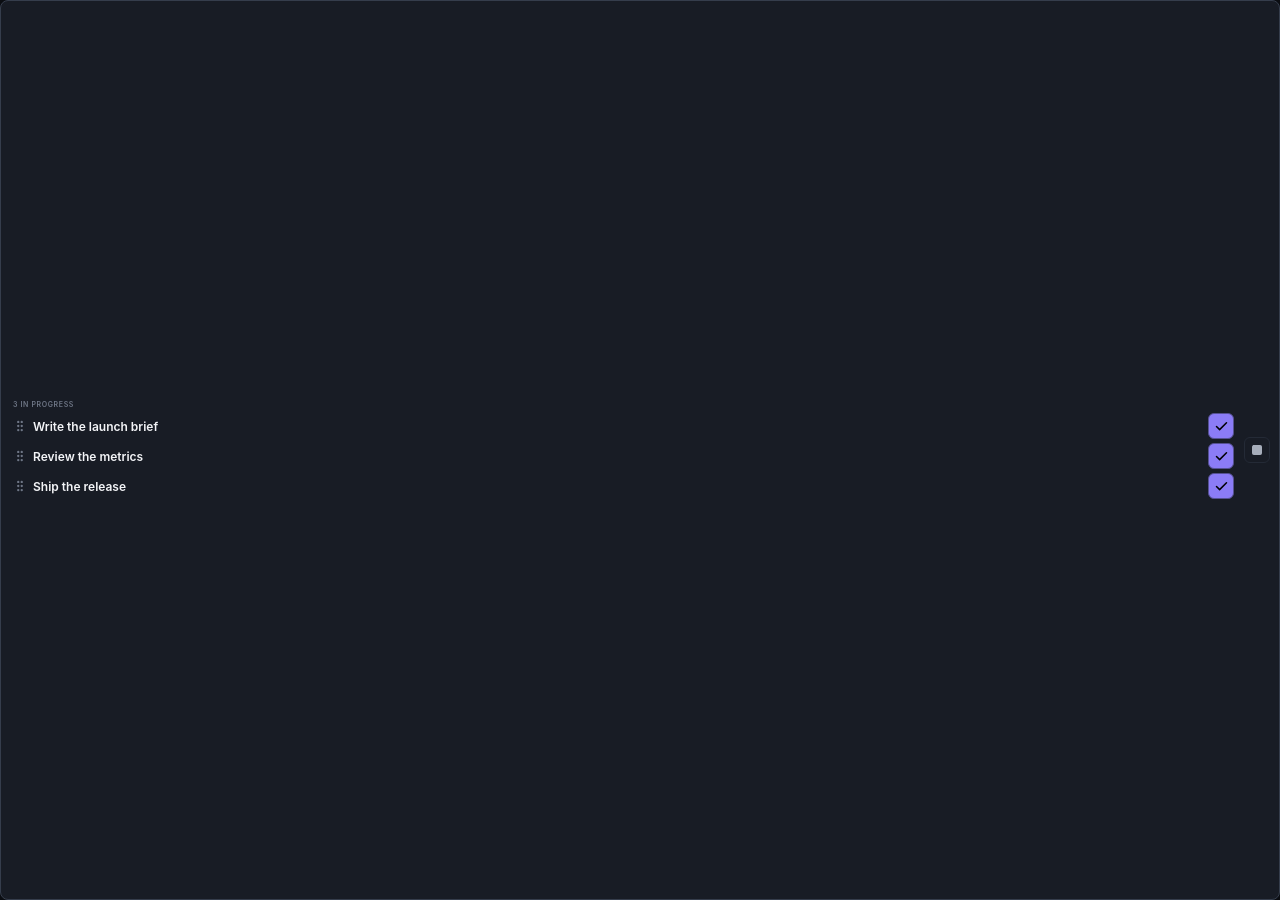
work mode › removes whichever task is marked Done
Check: the text "Write the launch brief" is shown, box [33,418,158,434]
What coordinates should you click on to do the following:
click the button named "Mark Review the metrics done"
I would click on:
 (1221, 456)
Its box is [1208,443,1234,469].
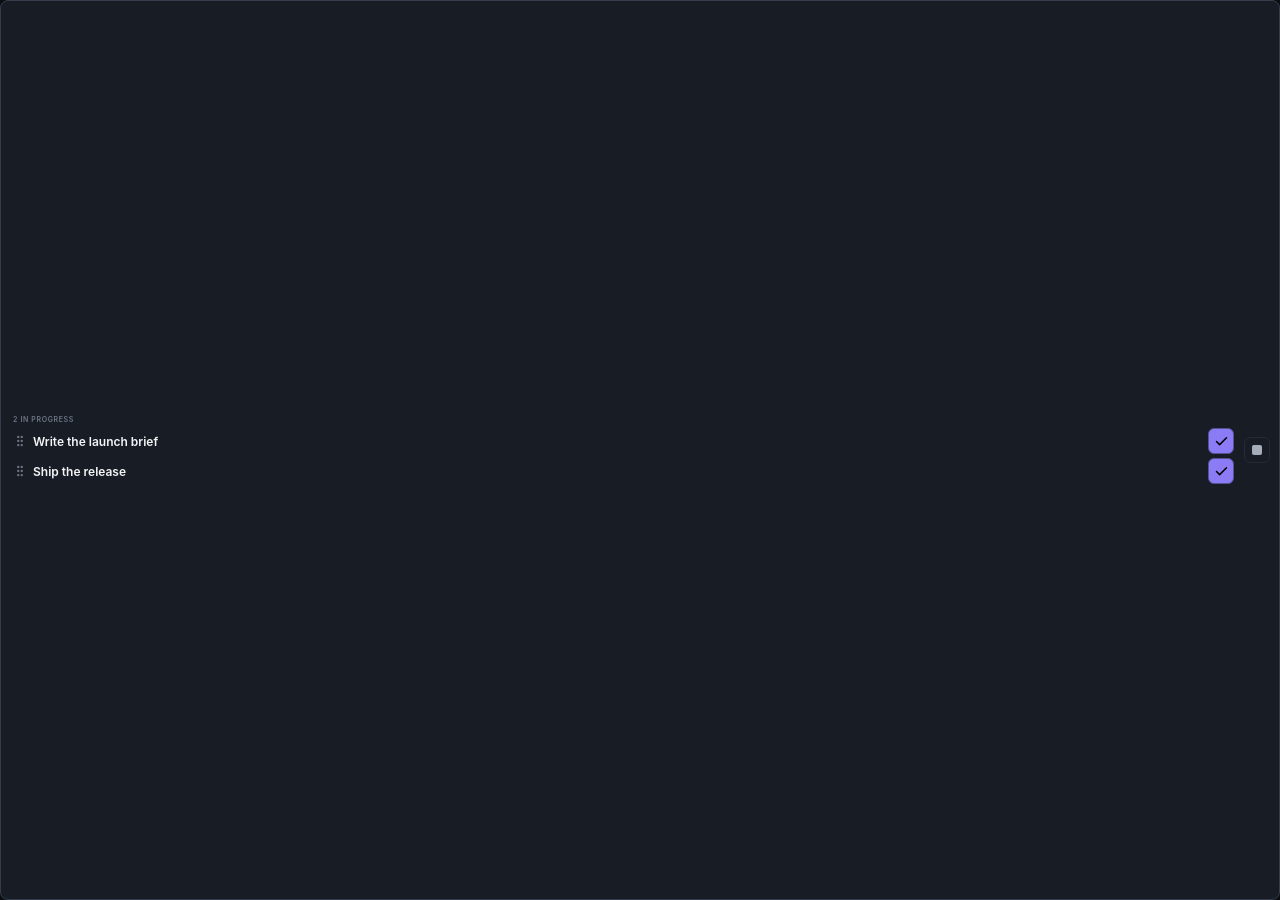
Check: the text "Write the launch brief" is shown, box [33,434,158,448]
Check: the text "Review the metrics" is gone
